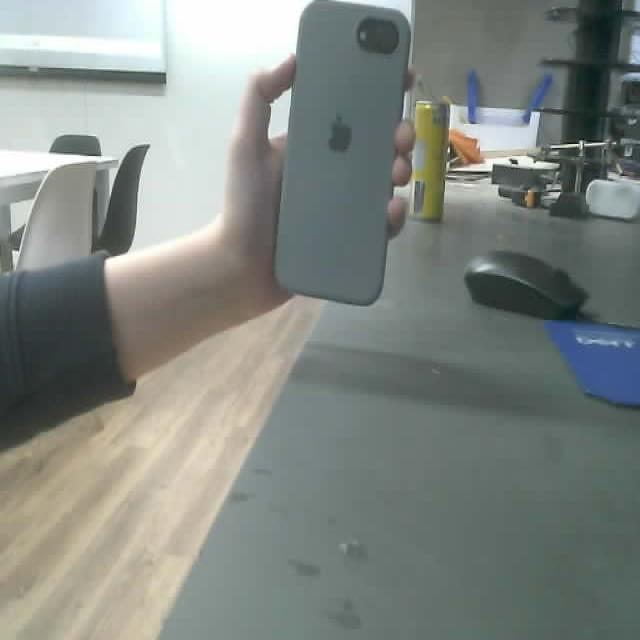phone: (274, 2, 409, 306)
